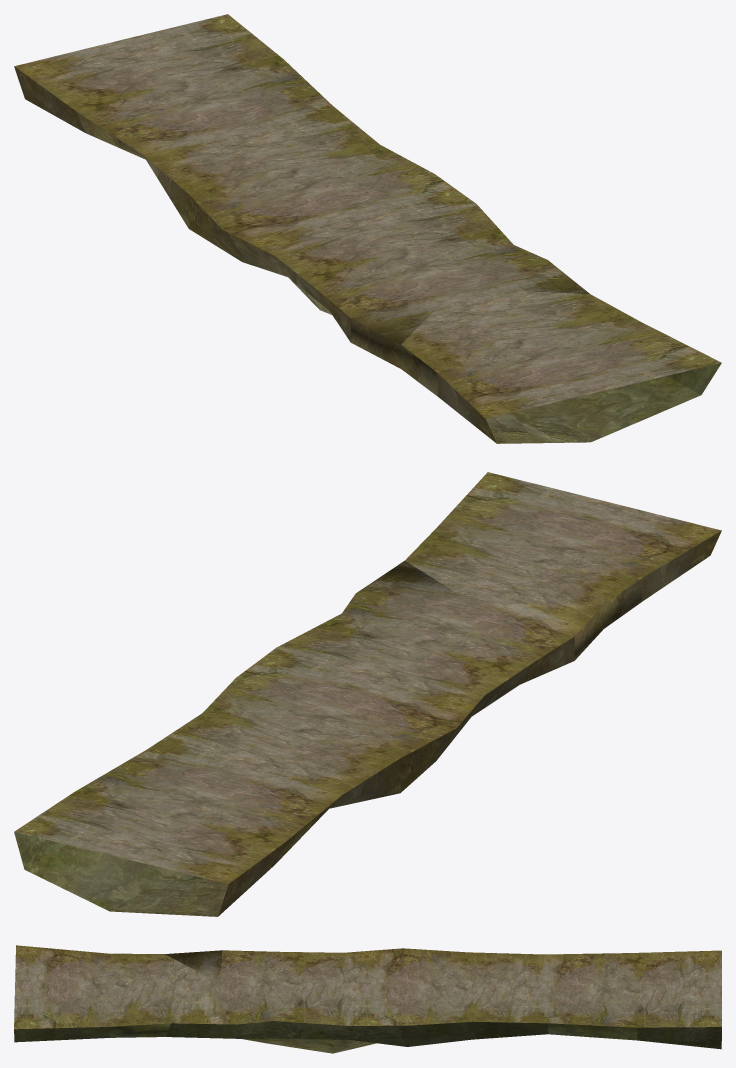
Rendered from zhandao_jy_61.FBX.
3 views of the same model, one above another, from view 1: azimuth 30°, elevation 25°; view 2: azimuth 150°, elevation 25°; view 3: azimuth 270°, elevation 25° (orthographic). The views are drawn at different scales.
Visible parts, largest first — view 1: zhandao_jy_61; view 2: zhandao_jy_61; view 3: zhandao_jy_61.
Part boxes in pixels (x1,y1,x2,y2): zhandao_jy_61: [14, 14, 721, 443]; zhandao_jy_61: [14, 472, 721, 916]; zhandao_jy_61: [14, 945, 721, 1053].
Size of what is drawn, in the model's own units: 941 by 287 by 3353.
